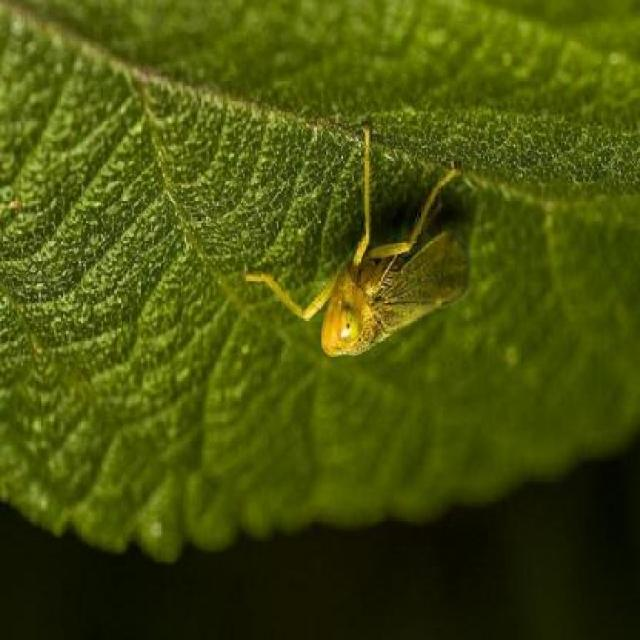green-leafhopper: (240, 122, 468, 358)
